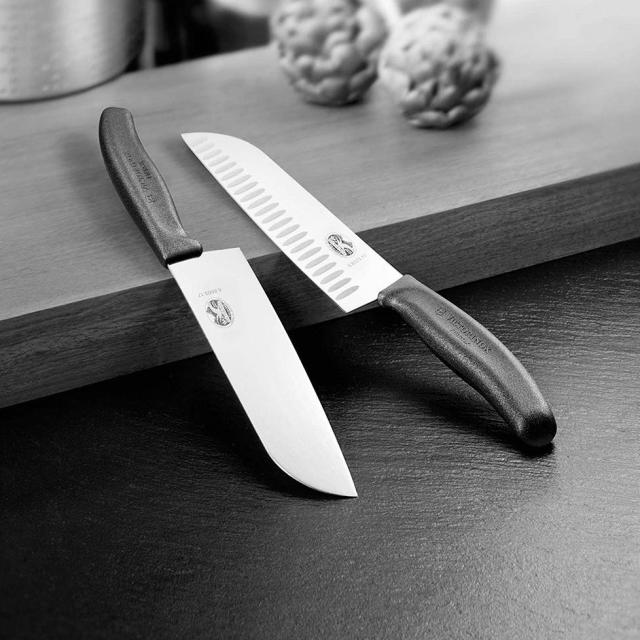Weapon: (183, 133, 554, 435), (99, 107, 355, 496)
